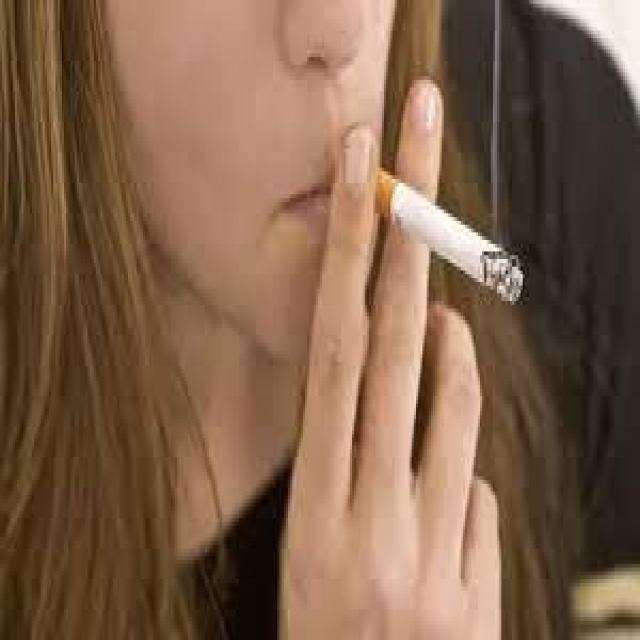cigarette: (375, 171, 523, 305)
